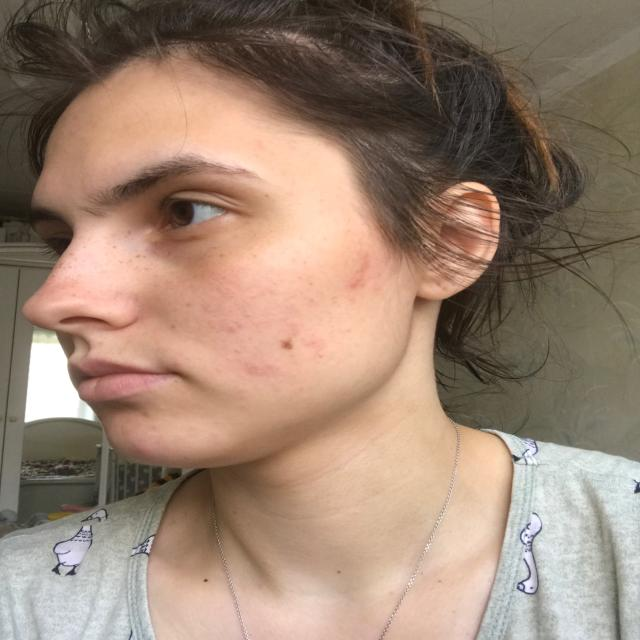Acne: (343, 252, 373, 290), (244, 362, 283, 376), (302, 337, 326, 356), (130, 444, 158, 459), (224, 321, 238, 335), (371, 282, 383, 292)
